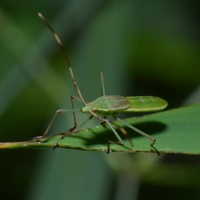insect: (38, 12, 167, 154), (106, 114, 151, 150)
